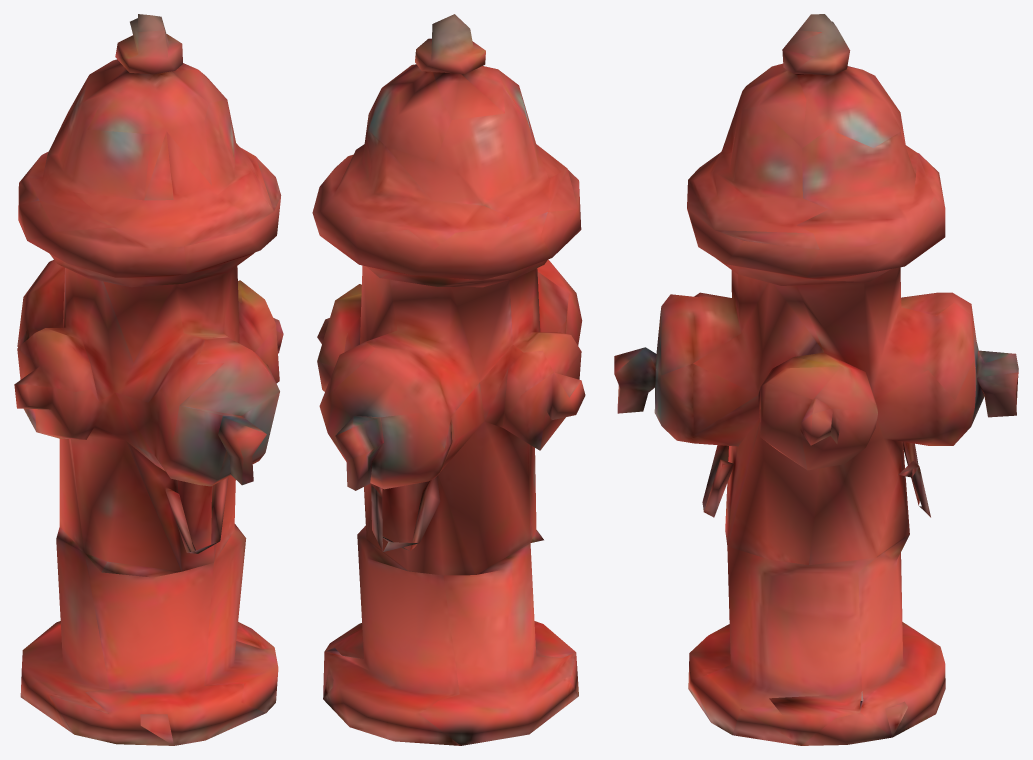
The model's file is prop3d-hydrant.glb.
3 renders of one model, left to right at view 1: azimuth 30°, elevation 25°; view 2: azimuth 150°, elevation 25°; view 3: azimuth 270°, elevation 25°, orthographic.
Bounding box in the file's own units: 0.791 × 2 × 1.08.
Materials: 1 (1 with a texture image).
